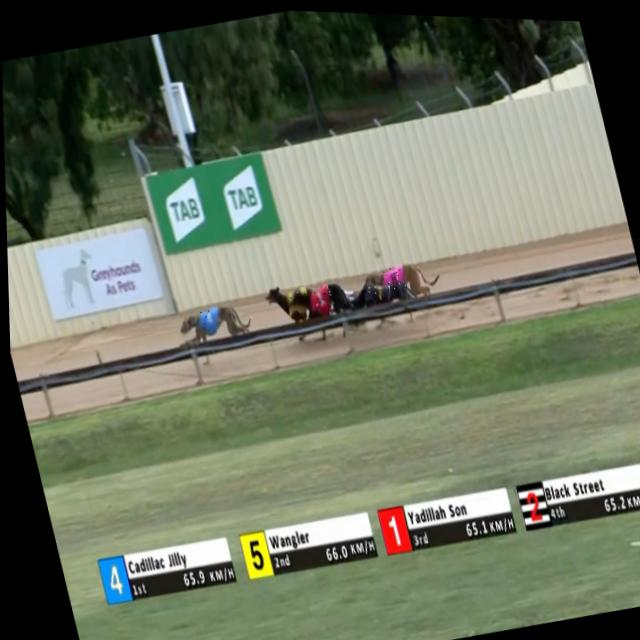dog_eight: (380, 262, 405, 290)
dog_five: (282, 283, 311, 318)
dog_four: (192, 301, 223, 338)
dog_one: (309, 285, 334, 315)
dog_seven: (365, 278, 391, 302)
rail: (14, 246, 637, 393)
